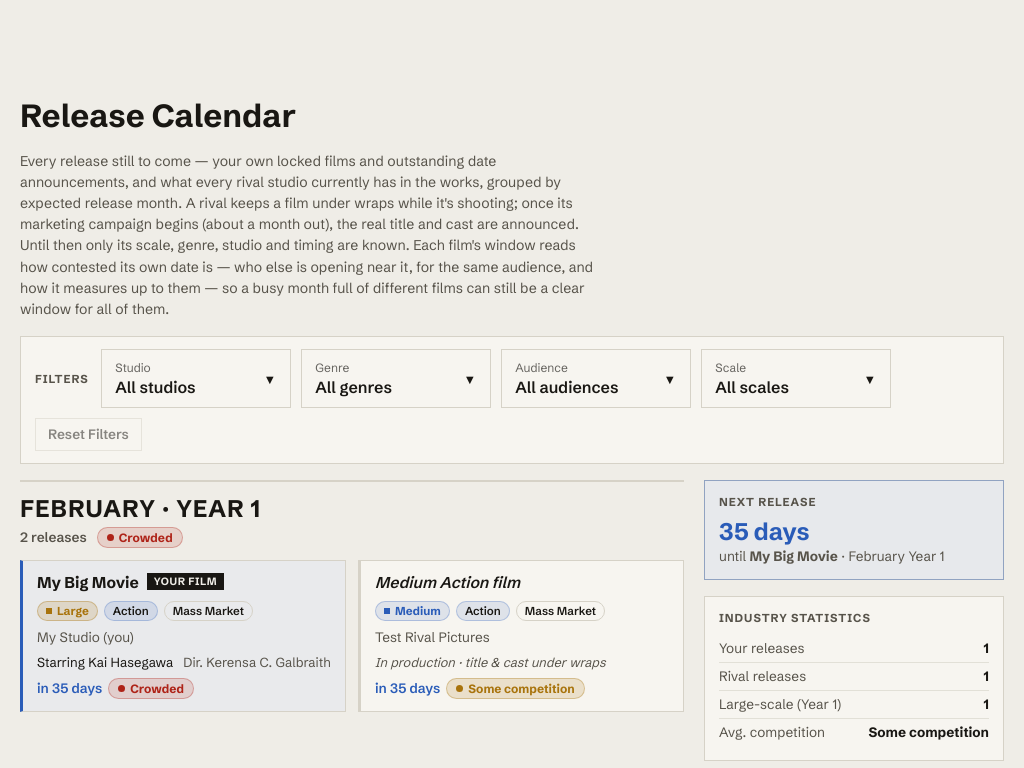
Test: ReleaseCalendar - clickable release cards › expands an inline detail panel when a card is clicked
The image size is (1024, 768).
Expected: the text "Expected" is not shown
Click the button "My Big Movie".
click(88, 583)  # box [20,560,346,712]
(page scrolled)
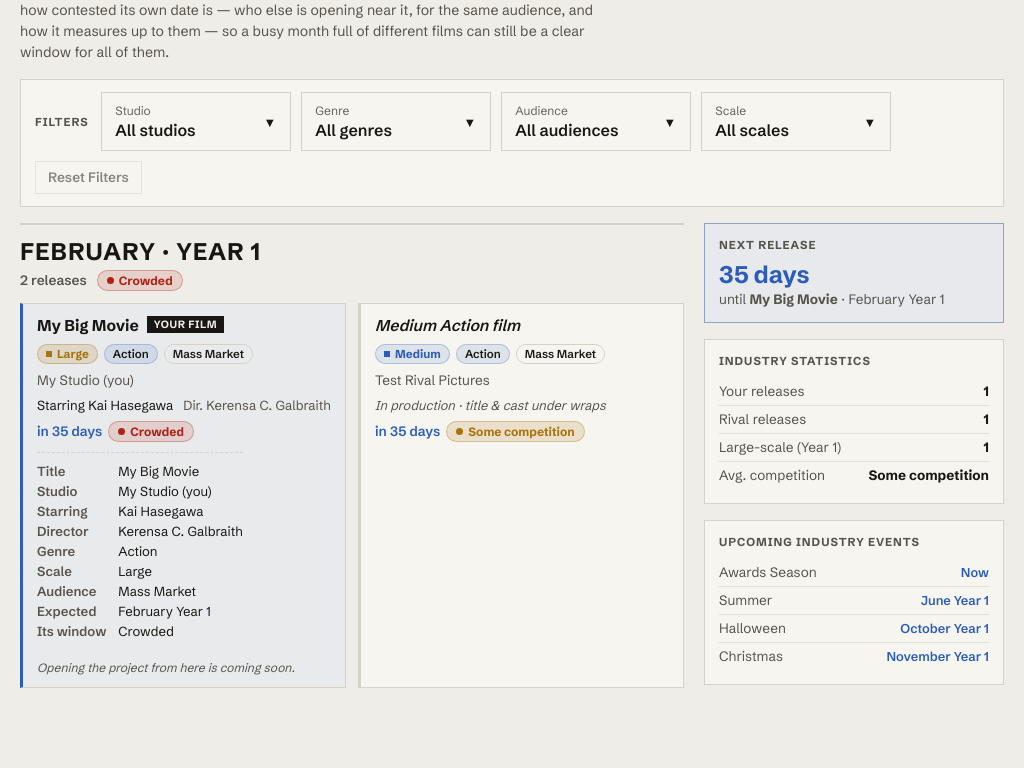
Now the text "Expected" is shown, box [37,603,106,619]
Now the text "Audience" below "· Year" is shown, box [37,583,96,599]
